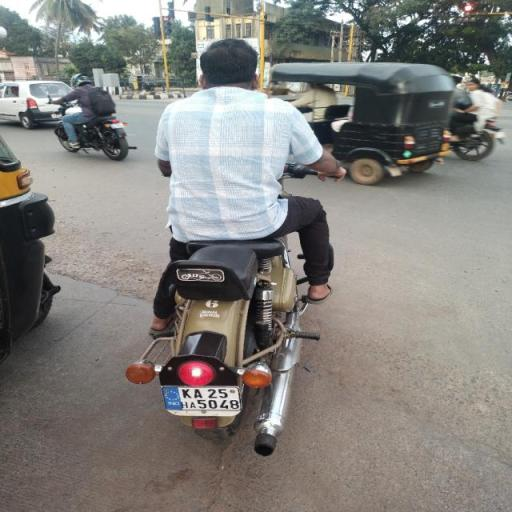bike: (119, 34, 341, 456)
numberplate: (163, 386, 242, 417)
withouthelmet: (202, 42, 254, 87)
